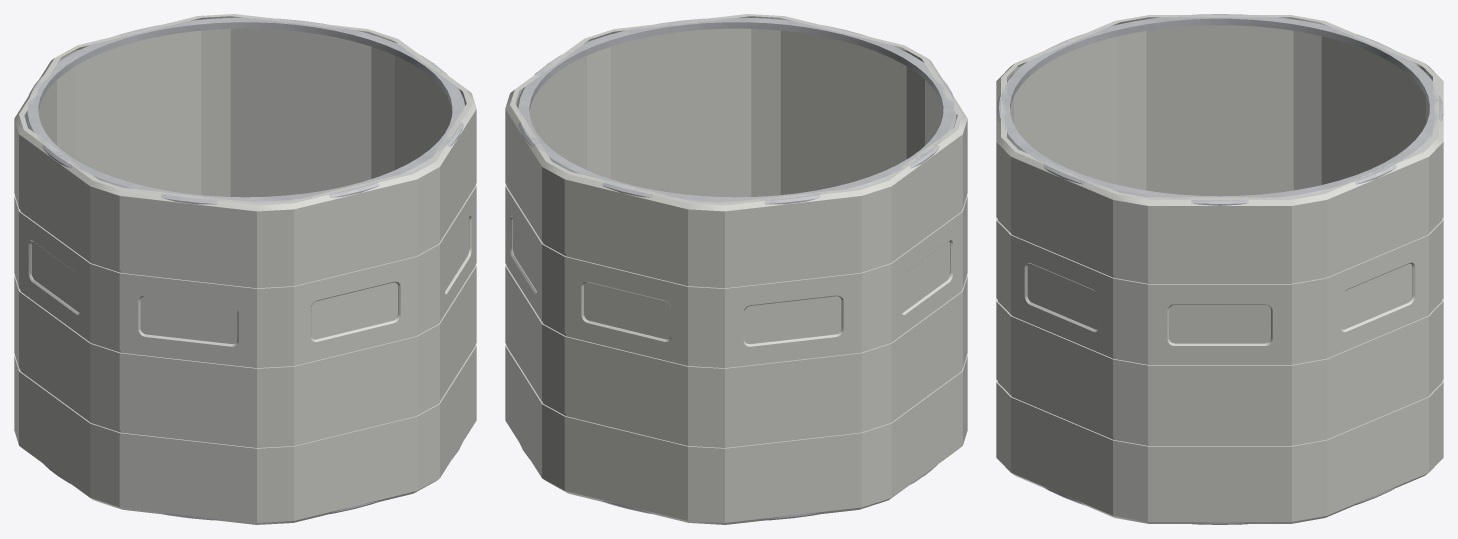
The model's file is ax_tank_11_water_shield_l.glb.
3 renders of one model, left to right at view 1: azimuth 30°, elevation 25°; view 2: azimuth 150°, elevation 25°; view 3: azimuth 270°, elevation 25°, orthographic.
Visible parts, largest first — view 1: shell, interface_rings; view 2: shell, interface_rings; view 3: shell, interface_rings.
Part boxes in pixels (x1=…): shell: x1=14, y1=14, x2=476, y2=524; interface_rings: x1=25, y1=17, x2=464, y2=520; shell: x1=505, y1=14, x2=967, y2=524; interface_rings: x1=517, y1=17, x2=956, y2=520; shell: x1=996, y1=15, x2=1443, y2=523; interface_rings: x1=996, y1=14, x2=1443, y2=524.
Size of the model in its own units: 3.75 by 3 by 3.75.
Materials: 3 (2 with a texture image).
